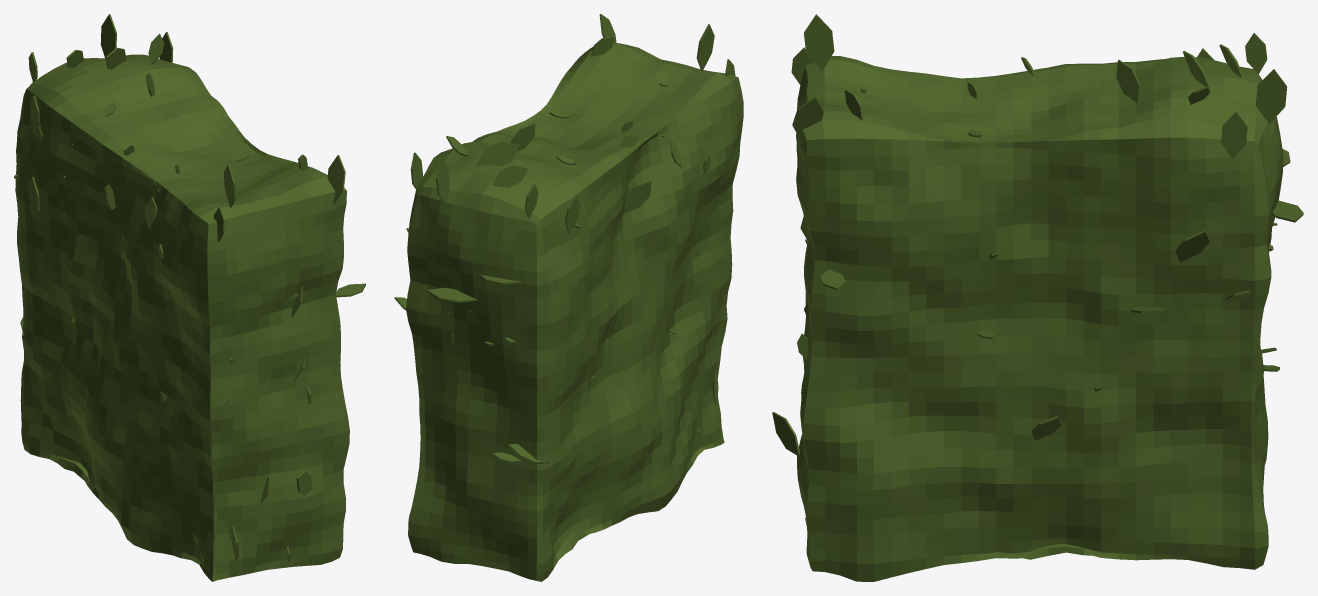
File: Wall.fbx
3 renders of one model, left to right at view 1: azimuth 30°, elevation 25°; view 2: azimuth 150°, elevation 25°; view 3: azimuth 270°, elevation 25°, orthographic. The views are drawn at different scales.
Parts seen in each view (by area): view 1: Sphere.004; view 2: Sphere.004; view 3: Sphere.004.
Part boxes in pixels (box(x1,y1,x2,y2)): Sphere.004: box(14, 14, 365, 581); Sphere.004: box(394, 14, 743, 581); Sphere.004: box(772, 14, 1303, 581).
Size of the model in its own units: 286 by 626 by 600.
